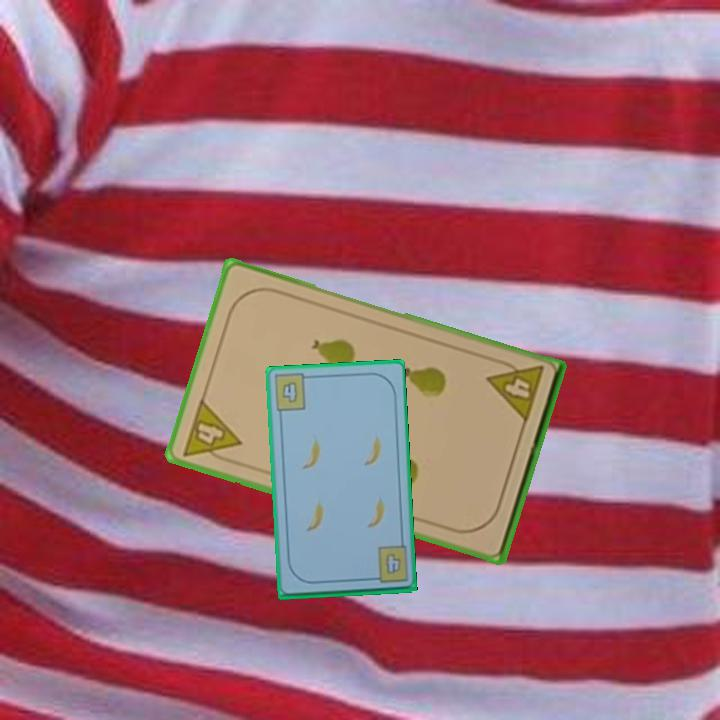4b: (270, 371, 314, 415), (382, 549, 404, 577)
4p: (179, 395, 244, 468), (483, 355, 547, 426)
